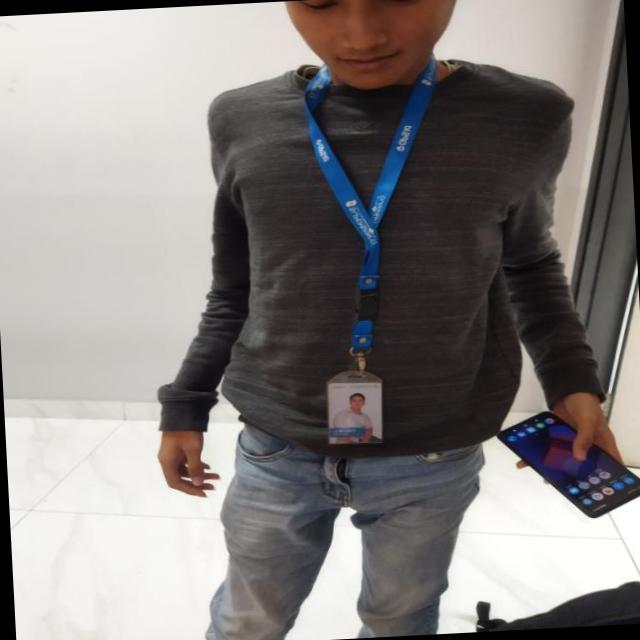id_card: (304, 48, 453, 442)
